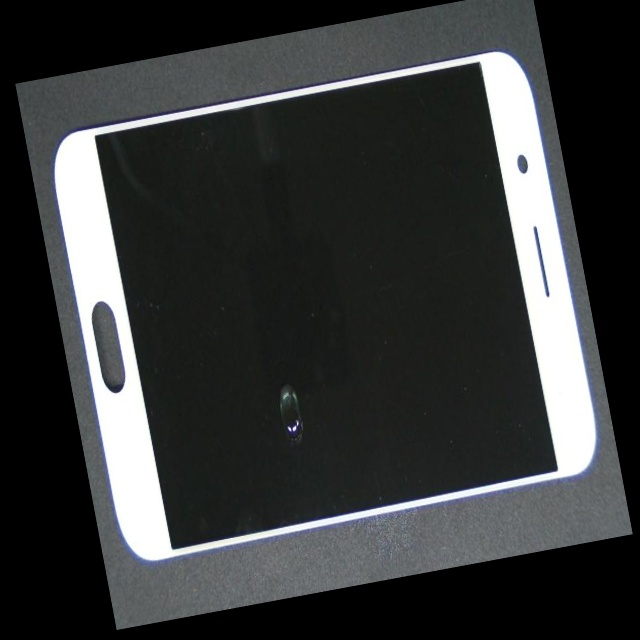oil: (152, 173, 411, 576)
